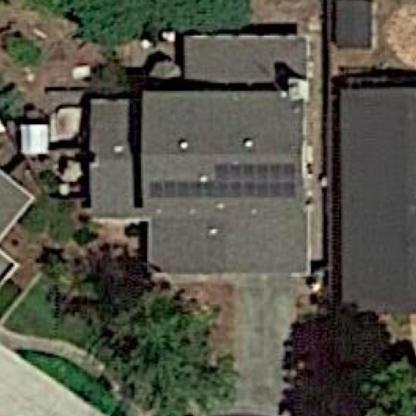solar_panel: (150, 153, 302, 206)
